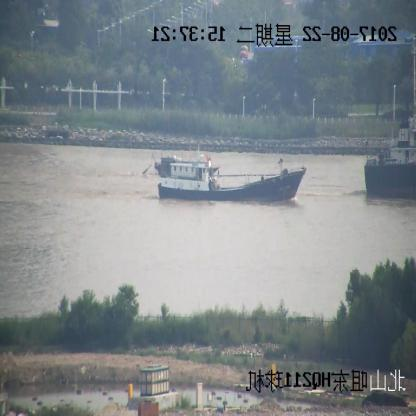Fishing Boat: (156, 158, 307, 202), (143, 155, 220, 179)
